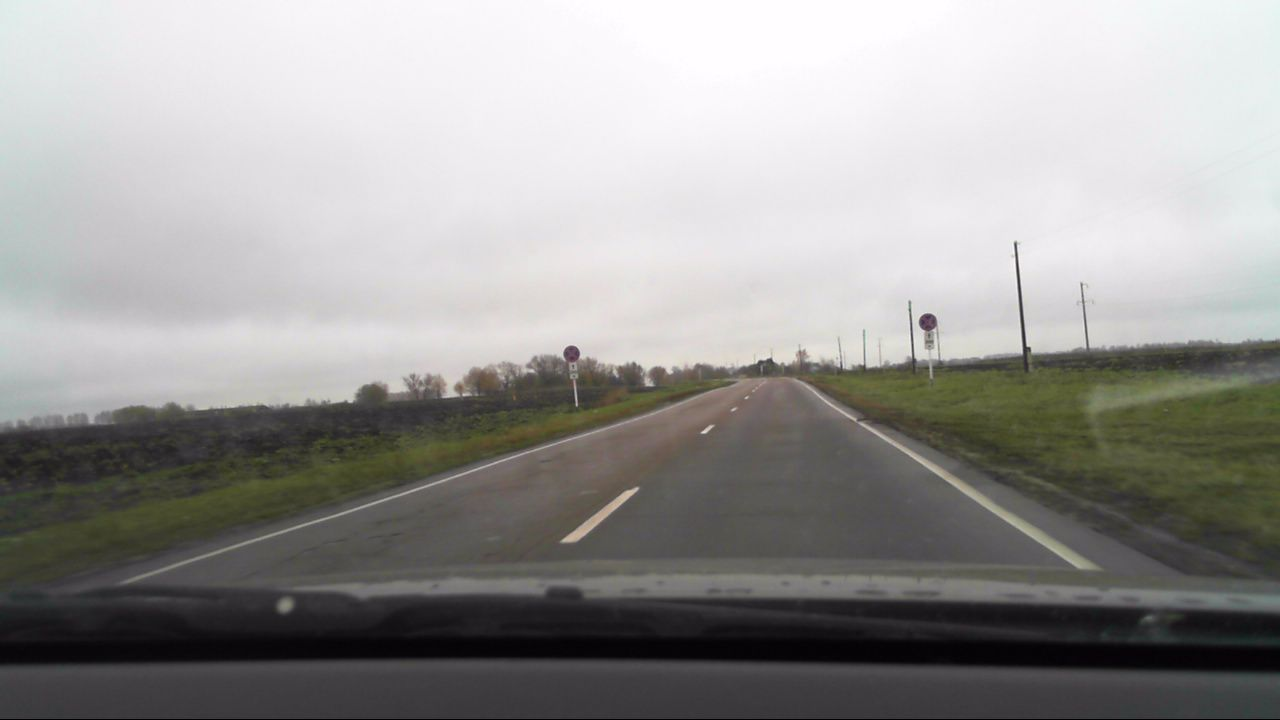No Parking: (562, 344, 581, 363)
